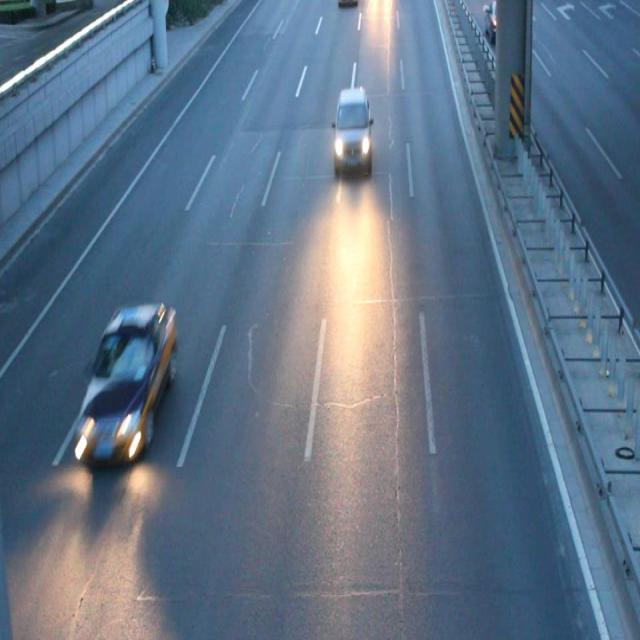car: (68, 301, 175, 465), (332, 86, 373, 172)
